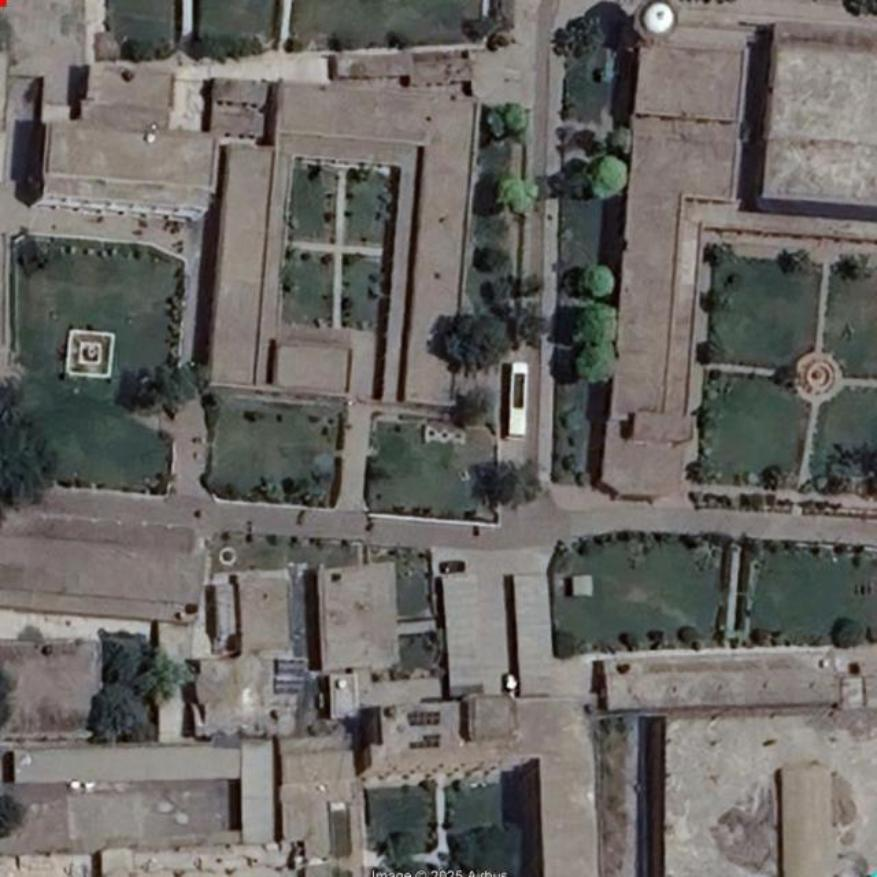Solarpanel: (274, 658, 308, 694), (409, 710, 443, 726), (424, 734, 439, 748)
